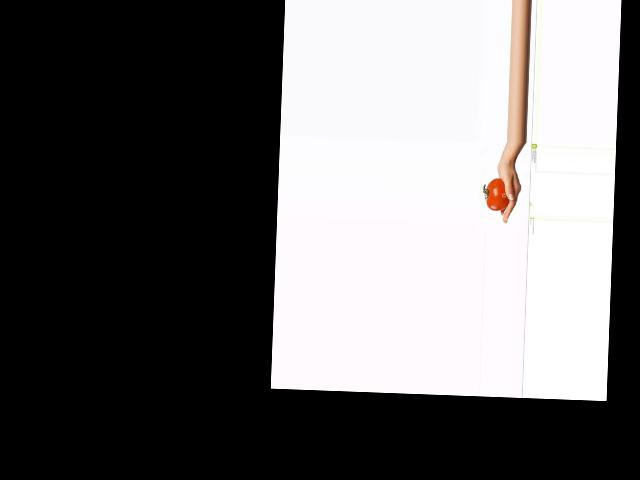tomato: (486, 178, 510, 211)
